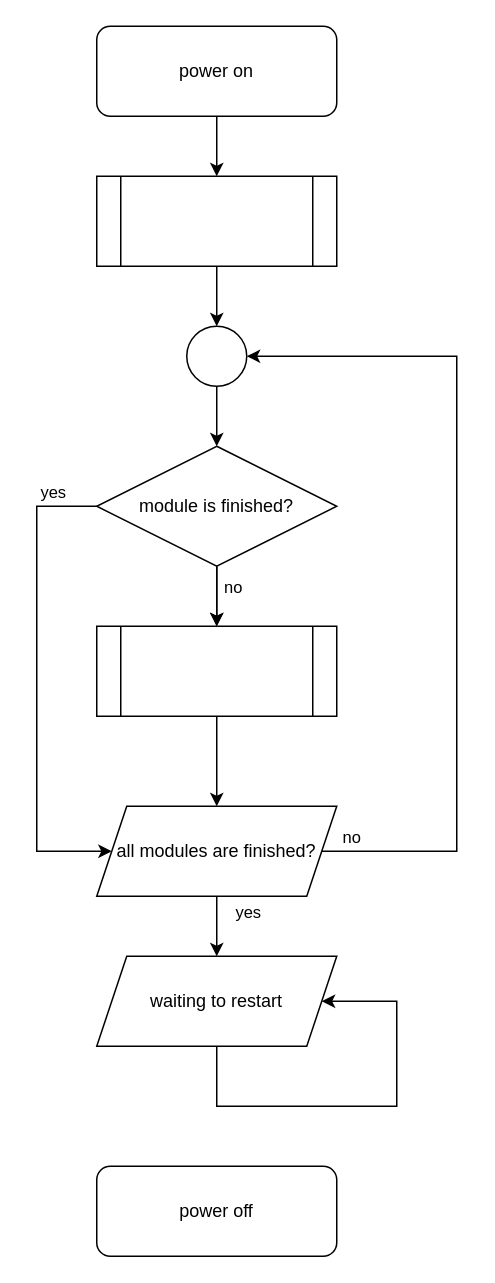
This 495x1283 diagram has some shape labels left out. Here are the shapes that lost their labels. From the top down, the centre of each, then its label:
(216,220): initialize
(216,670): execute module
